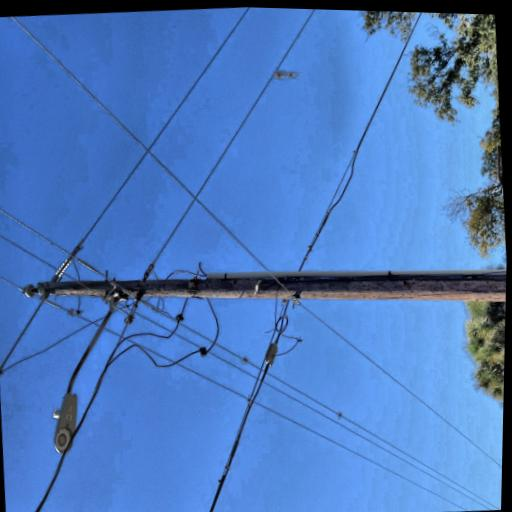pole: (53, 181, 142, 512)
street light: (0, 195, 111, 299)
